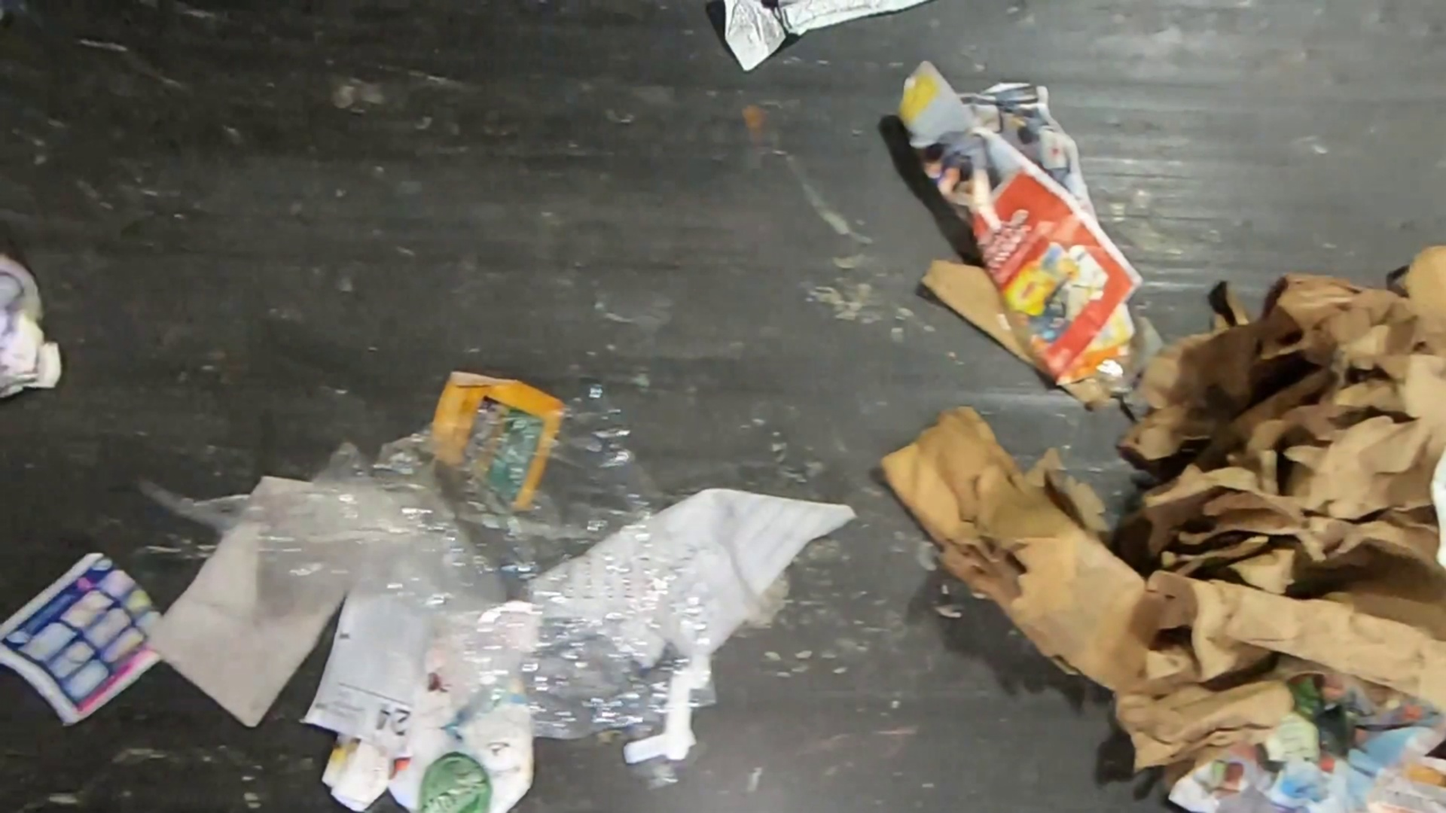cardboard: (872, 277, 1446, 791), (1260, 274, 1428, 365), (918, 258, 1038, 373), (1407, 245, 1446, 357)
plastic: (135, 376, 720, 789)
